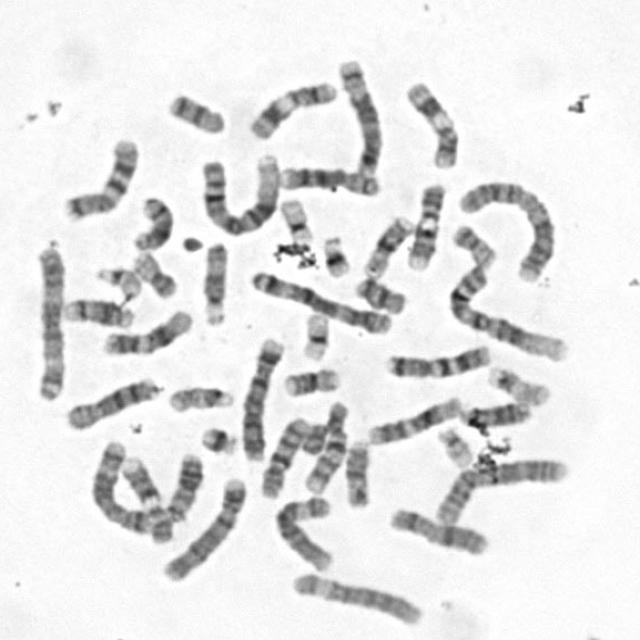A1: (444, 262, 570, 364), (196, 151, 283, 239)
A2: (454, 175, 558, 282), (429, 453, 571, 526)
A3: (247, 266, 393, 336), (28, 241, 68, 403)
B4: (158, 474, 248, 583), (238, 334, 288, 462)
B5: (88, 438, 153, 538), (334, 55, 384, 178)
C10: (300, 396, 350, 496), (256, 413, 310, 501)
C11: (243, 77, 339, 141), (403, 77, 460, 171)
C12: (364, 392, 465, 446), (99, 306, 194, 358)
C6: (287, 567, 425, 628), (271, 492, 337, 572)
C7: (58, 134, 141, 222), (382, 341, 492, 380)
C8: (60, 374, 162, 432), (275, 162, 382, 198)
C9: (124, 451, 178, 550), (403, 179, 448, 273)
D13: (160, 448, 205, 522), (456, 398, 531, 427)
D14: (129, 192, 176, 254), (58, 294, 138, 330)
D15: (198, 238, 230, 328), (340, 436, 372, 509)
E16: (358, 212, 416, 279), (280, 364, 342, 399)
E17: (483, 362, 552, 408), (166, 381, 237, 414)
E18: (165, 88, 228, 136), (352, 273, 407, 315)
F19: (297, 307, 333, 363), (276, 194, 315, 243)
F20: (128, 248, 178, 301), (448, 220, 499, 270)
G21: (196, 422, 240, 458), (319, 233, 352, 278)
G22: (91, 264, 143, 300), (434, 424, 474, 467)
X: (385, 503, 490, 558)
Y: (300, 422, 330, 451)
